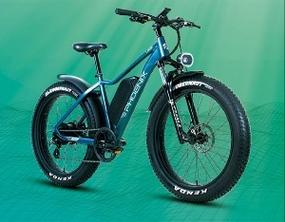单车: (28, 4, 259, 211)
